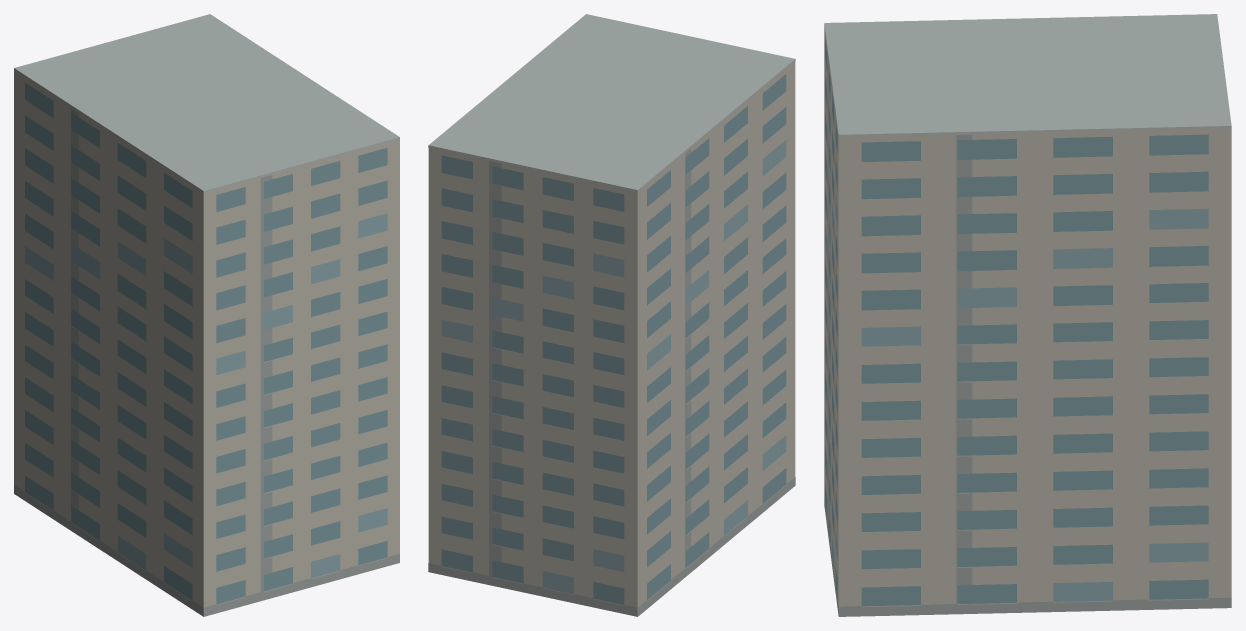
The model's file is residential-ea333b03-3864-45a2-aaba-bc74b07f4635.glb.
3 renders of one model, left to right at view 1: azimuth 30°, elevation 25°; view 2: azimuth 150°, elevation 25°; view 3: azimuth 270°, elevation 25°, orthographic. The views are drawn at different scales.
Parts seen in each view (by area): view 1: residential-ea333b03-3864-45a2-aaba-bc74b07f4635.tmp; view 2: residential-ea333b03-3864-45a2-aaba-bc74b07f4635.tmp; view 3: residential-ea333b03-3864-45a2-aaba-bc74b07f4635.tmp.
Part boxes in pixels (box(x1,y1,x2,y2)): residential-ea333b03-3864-45a2-aaba-bc74b07f4635.tmp: box(14, 14, 399, 616); residential-ea333b03-3864-45a2-aaba-bc74b07f4635.tmp: box(428, 14, 795, 616); residential-ea333b03-3864-45a2-aaba-bc74b07f4635.tmp: box(824, 14, 1231, 616).
Size of the model in its own units: 21.5 by 40 by 30.64.
